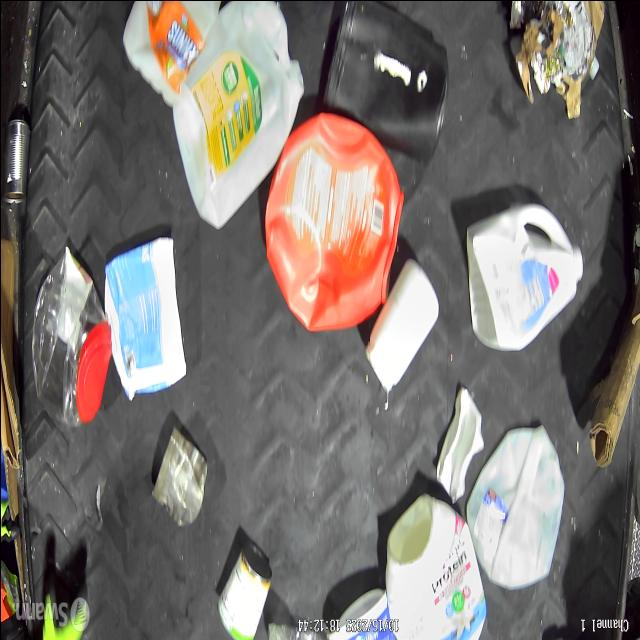can: (216, 540, 272, 640), (0, 118, 30, 204)
milk_jug: (170, 0, 304, 230), (464, 201, 582, 351), (465, 426, 565, 588), (385, 493, 486, 640), (120, 0, 220, 106)
non_white_jug: (264, 111, 404, 332), (318, 0, 448, 164)
